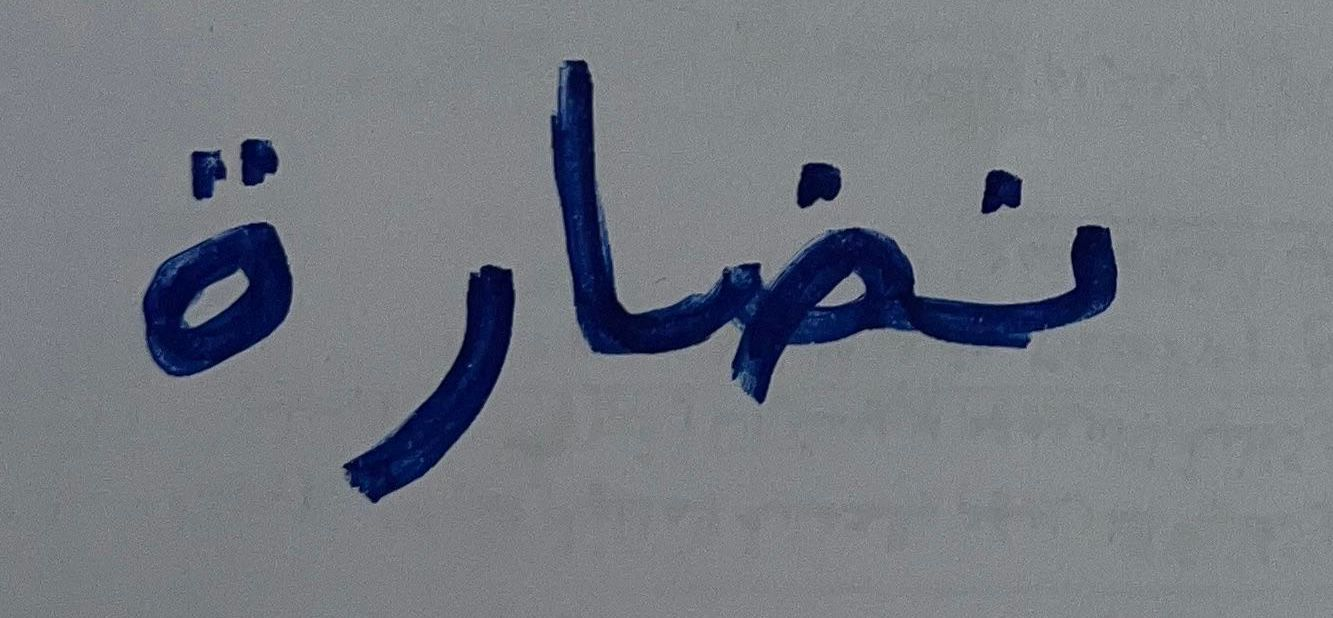heh: (539, 25, 688, 383)
reh: (335, 223, 529, 517)
teh: (947, 147, 1135, 378)
teh_marbota: (696, 131, 940, 419), (118, 112, 320, 402)
